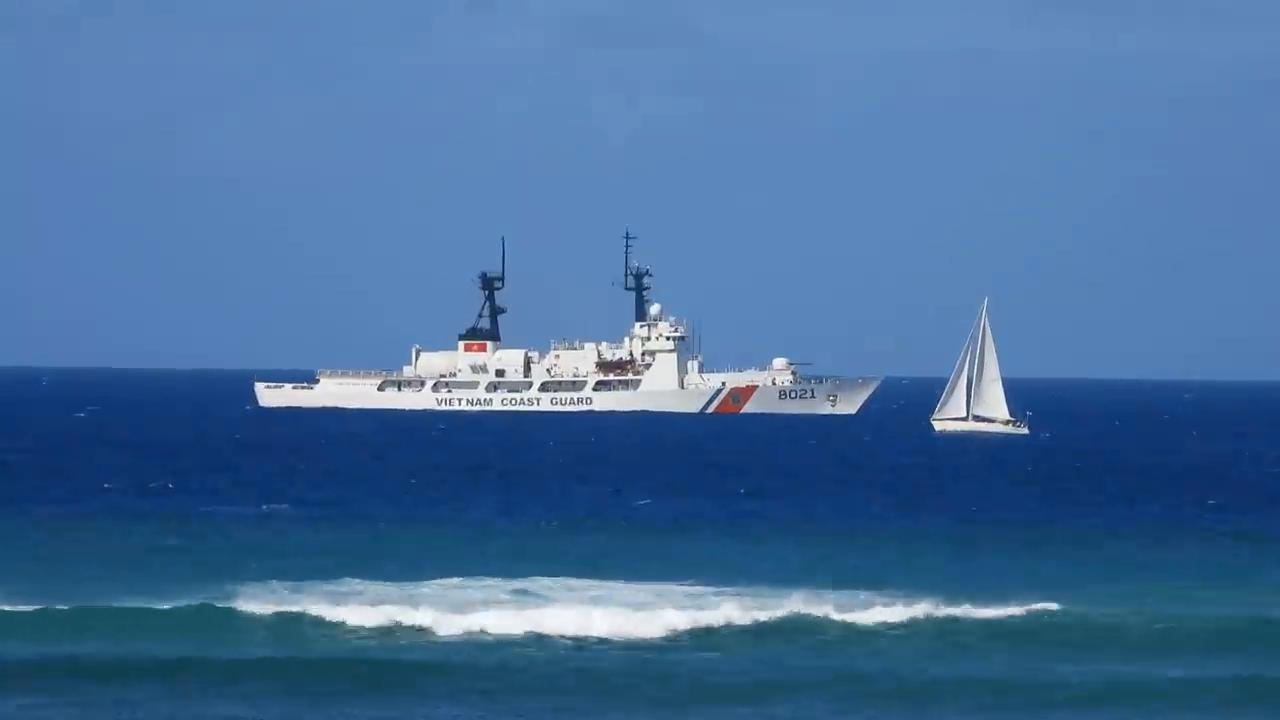Ship: (255, 238, 885, 417), (929, 293, 1033, 439)
